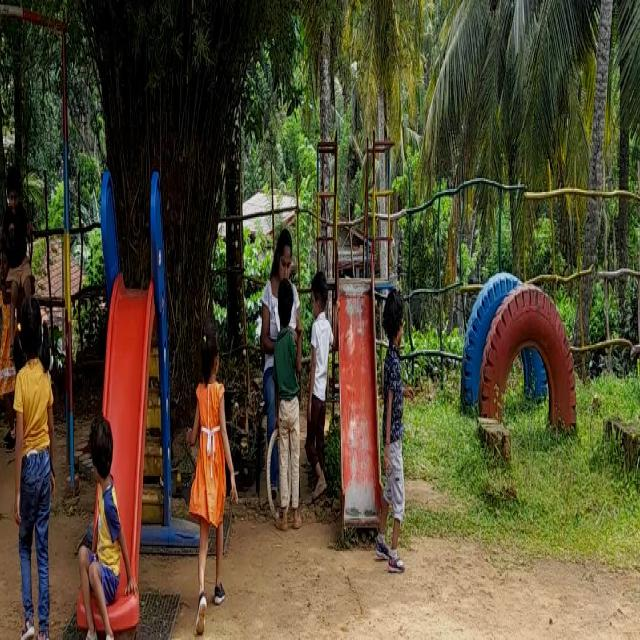child: (15, 285, 60, 640), (186, 322, 230, 628), (373, 284, 417, 576), (84, 417, 126, 640), (304, 263, 338, 508), (276, 290, 302, 522), (2, 146, 36, 308)
